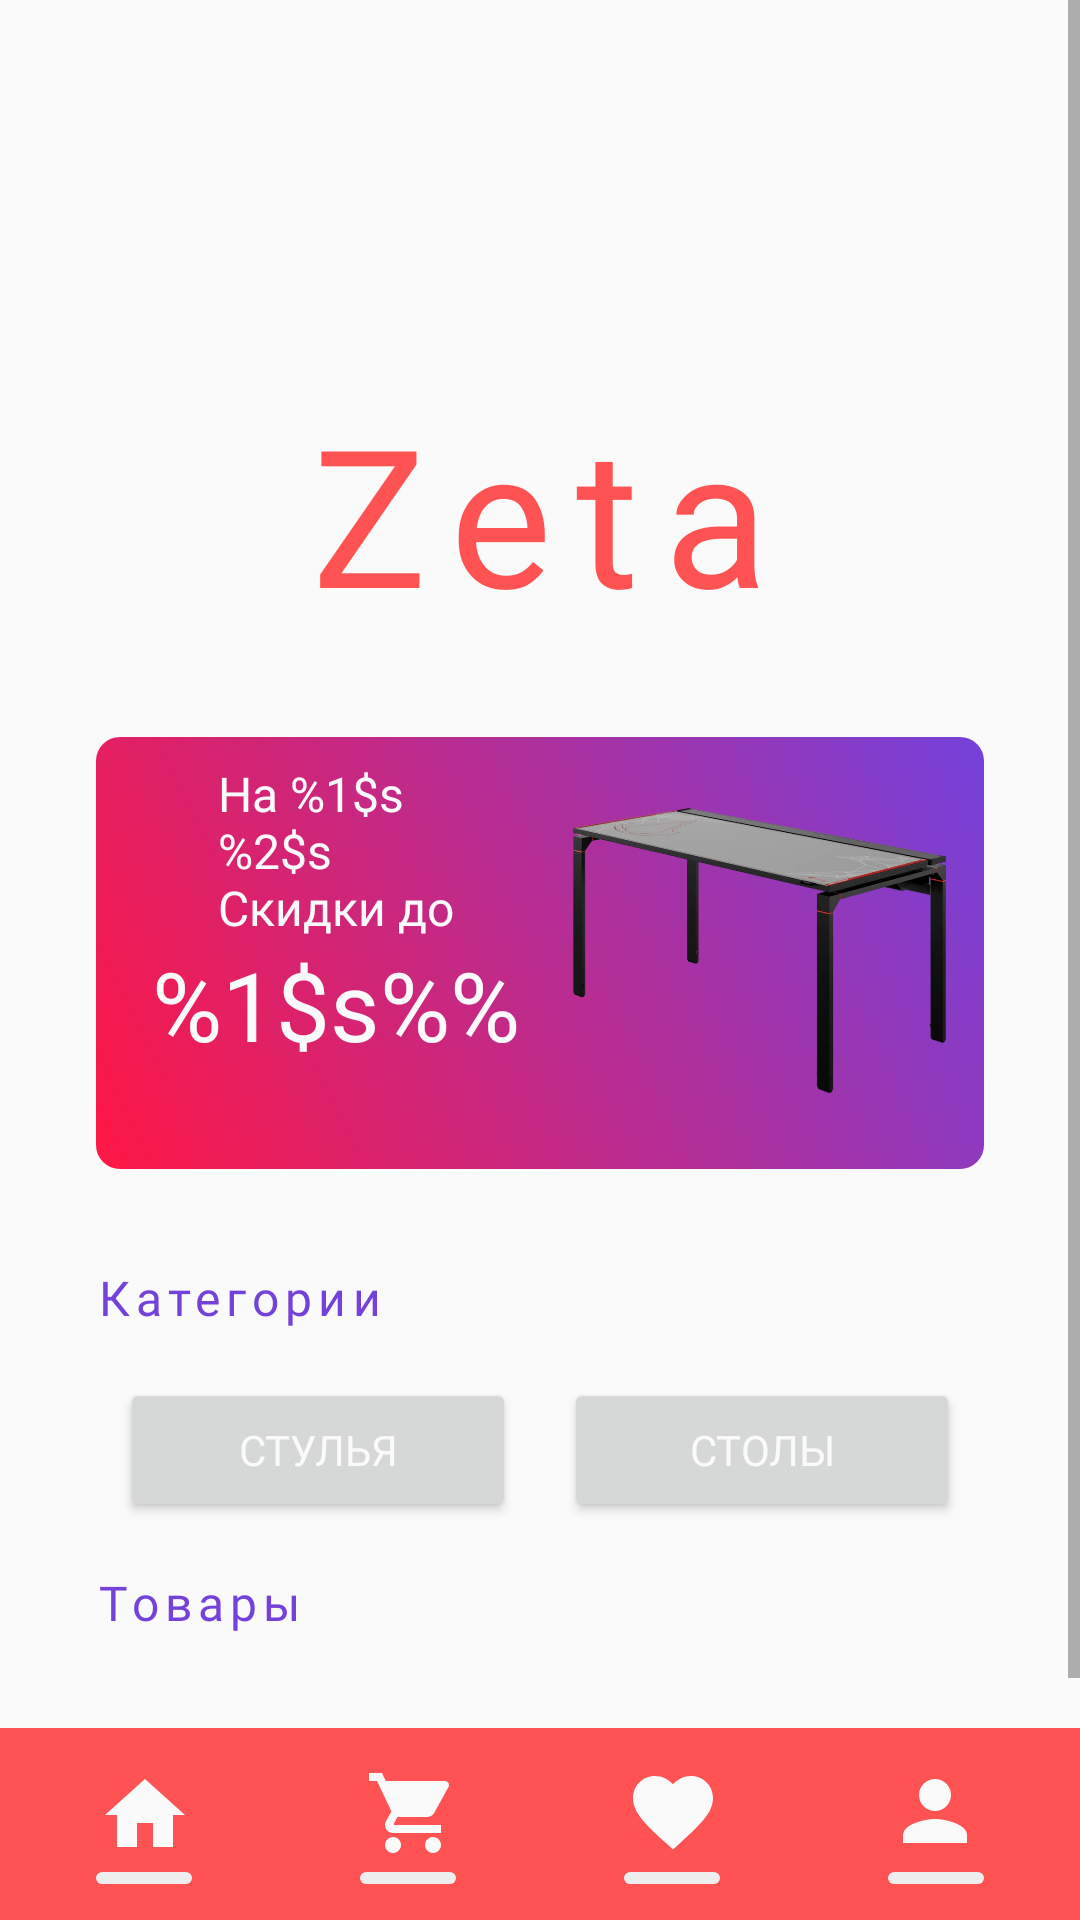

Screen size 1080w x 1920h. Icon name, then its center in pixels as (x=x, y=y):
favorite: (x=673, y=1812)
home: (x=145, y=1813)
profile: (x=935, y=1811)
